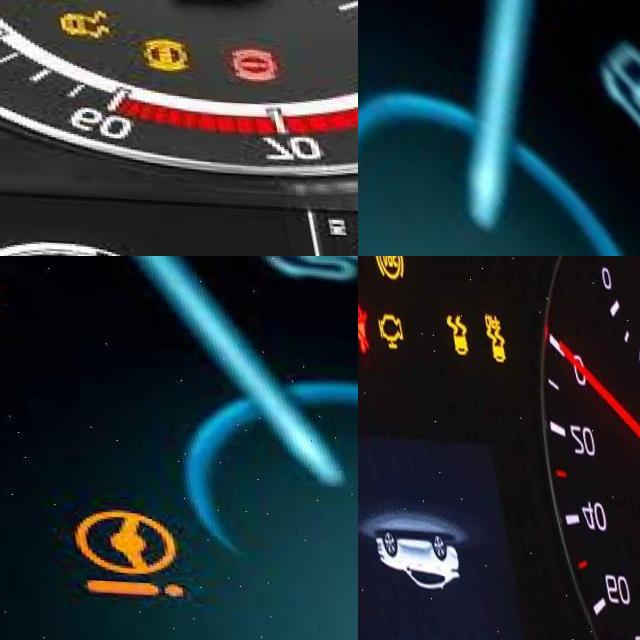Electronic Power Steering Warning: (50, 507, 166, 596)
Seat Belt: (358, 300, 373, 352)
